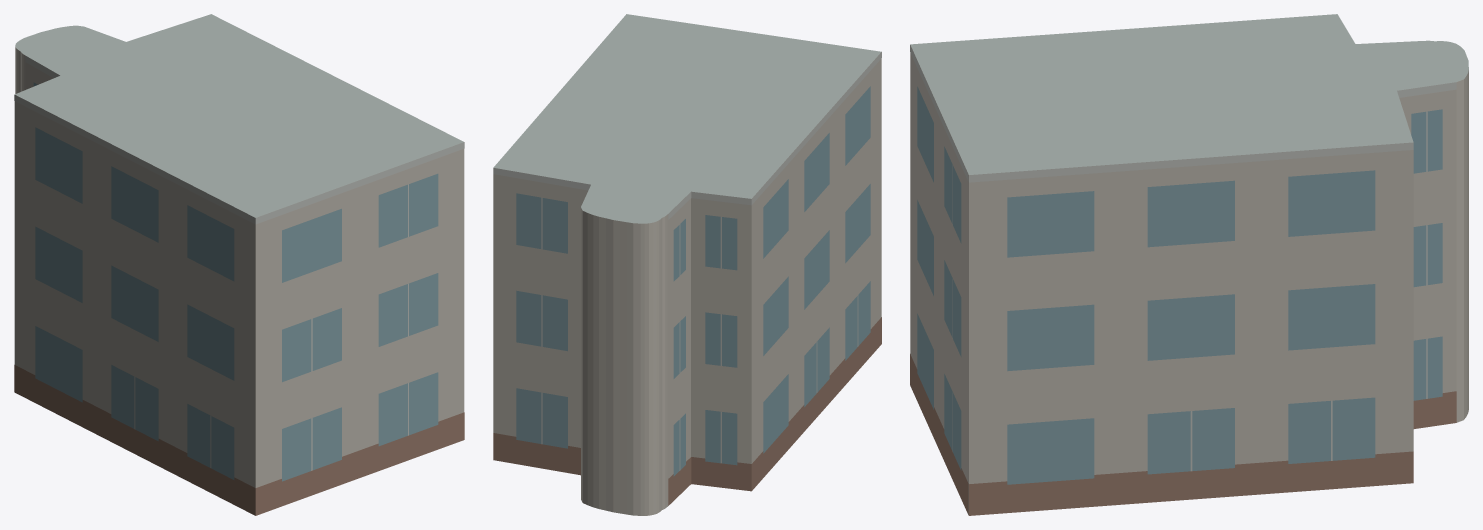
The model's file is survey-upis-32617175.glb.
The picture shows the model from 3 angles, left to right: view 1: azimuth 30°, elevation 25°; view 2: azimuth 150°, elevation 25°; view 3: azimuth 270°, elevation 25°; orthographic projection. The views are drawn at different scales.
Parts seen in each view (by area): view 1: survey-upis-32617175.tmp; view 2: survey-upis-32617175.tmp; view 3: survey-upis-32617175.tmp.
Part boxes in pixels (<box>): survey-upis-32617175.tmp: <box>14,14,464,515</box>; survey-upis-32617175.tmp: <box>493,14,881,515</box>; survey-upis-32617175.tmp: <box>910,14,1468,515</box>.
Size of the model in its own units: 11.27 by 11.1 by 16.5.
